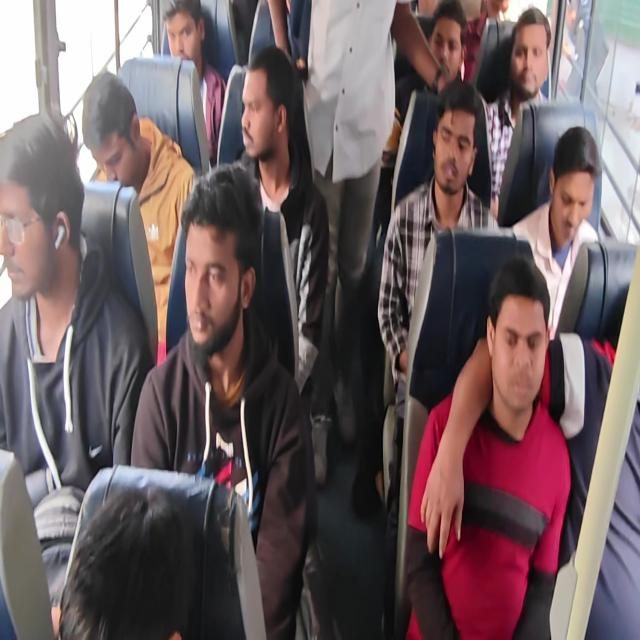person: (58, 465, 224, 640), (0, 106, 79, 304), (185, 154, 260, 346), (479, 252, 548, 422), (78, 59, 147, 188), (238, 47, 298, 159), (549, 124, 593, 241), (434, 78, 475, 197), (510, 4, 546, 96), (157, 2, 204, 68), (426, 0, 462, 83), (485, 1, 510, 22)
